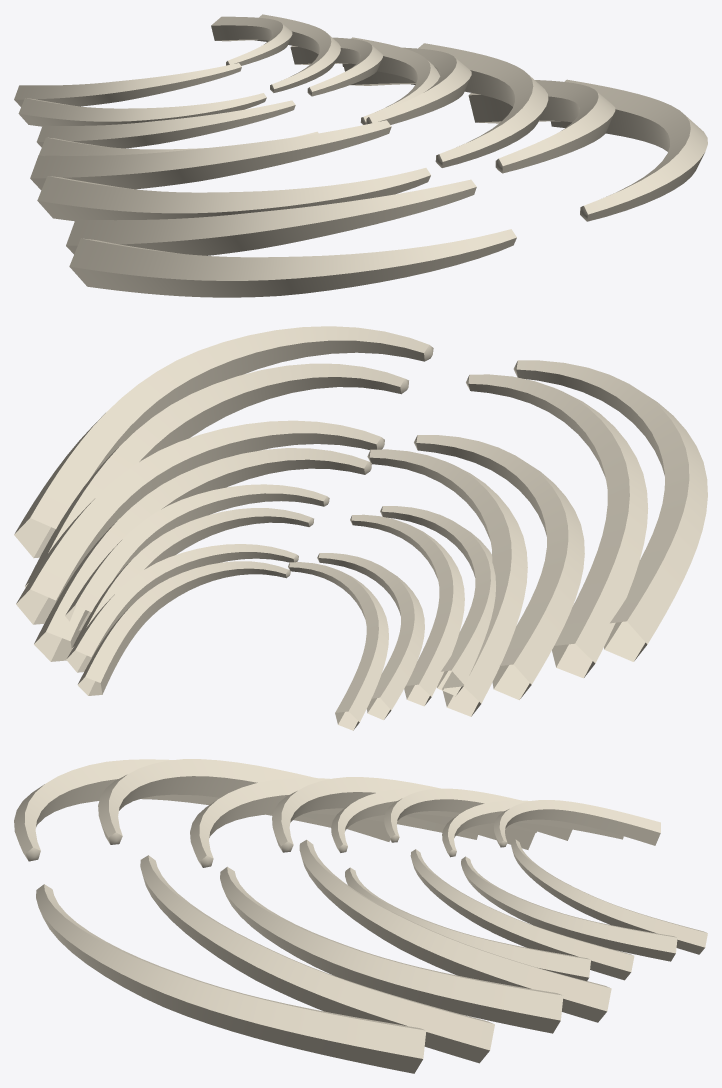
The model's file is Ribs 2.fbx.
3 renders of one model, top to bottom at view 1: azimuth 30°, elevation 25°; view 2: azimuth 150°, elevation 25°; view 3: azimuth 270°, elevation 25°, orthographic. The views are drawn at different scales.
Visible parts, largest first — view 1: Ribs_2; view 2: Ribs_2; view 3: Ribs_2.
Part boxes in pixels (left/top/right/bottom): Ribs_2: left=14, top=14, right=707, bottom=297; Ribs_2: left=14, top=326, right=707, bottom=730; Ribs_2: left=14, top=759, right=707, bottom=1073.
Bounding box in the file's own units: 47.99 × 11.33 × 52.66.
